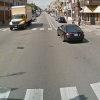Crosswalk: (8, 71, 99, 100)
